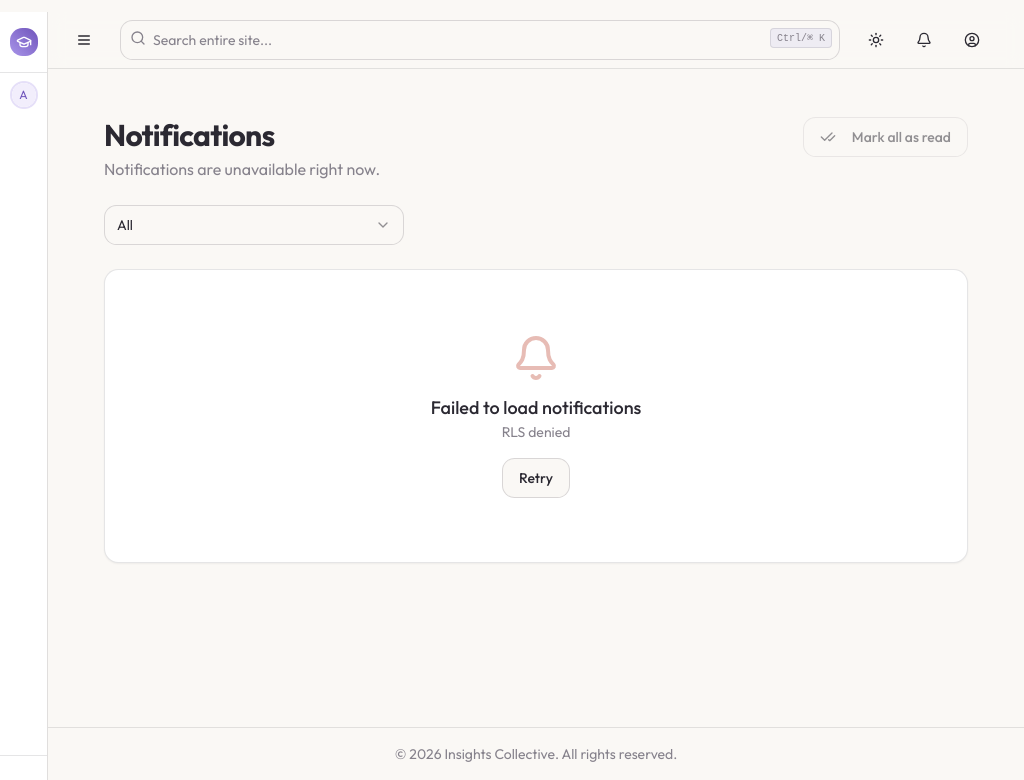
Scenario: Notifications page › re-fetches when Retry is clicked after a failed load
Expected: the heading "Failed to load notifications" is shown, [431,396,641,419]
Click the button "Retry" at (536,478), box [502,458,570,498]
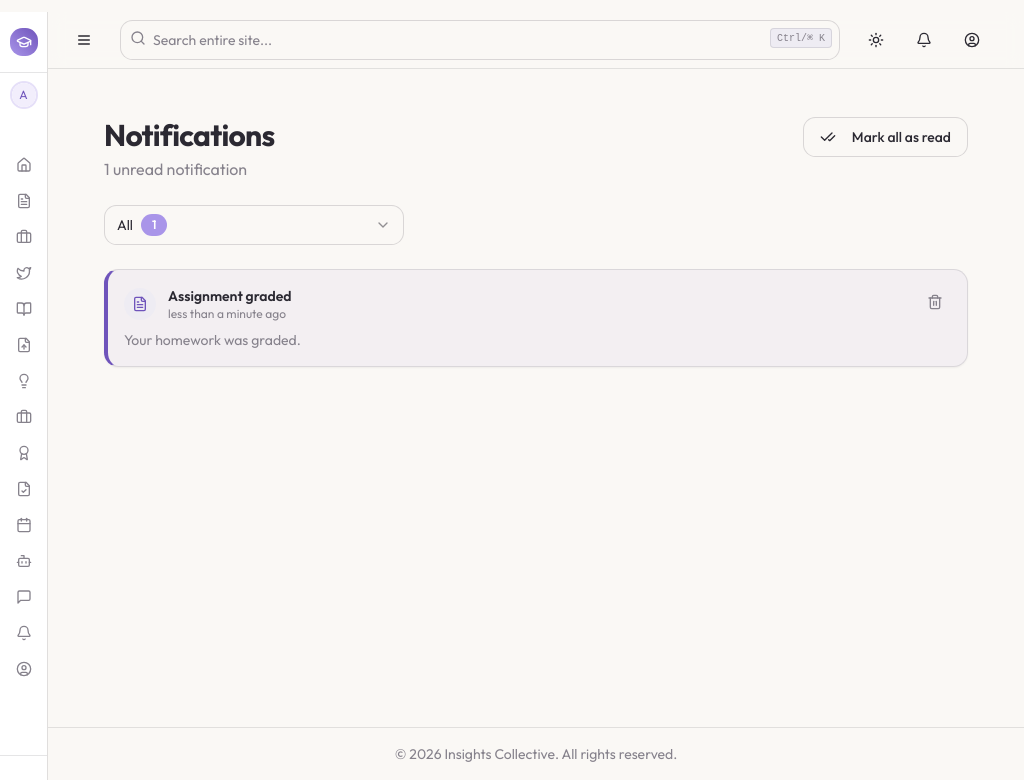
Now the heading "Assignment graded" is shown, box [168,287,292,305]
Now the heading "Failed to load notifications" is gone
